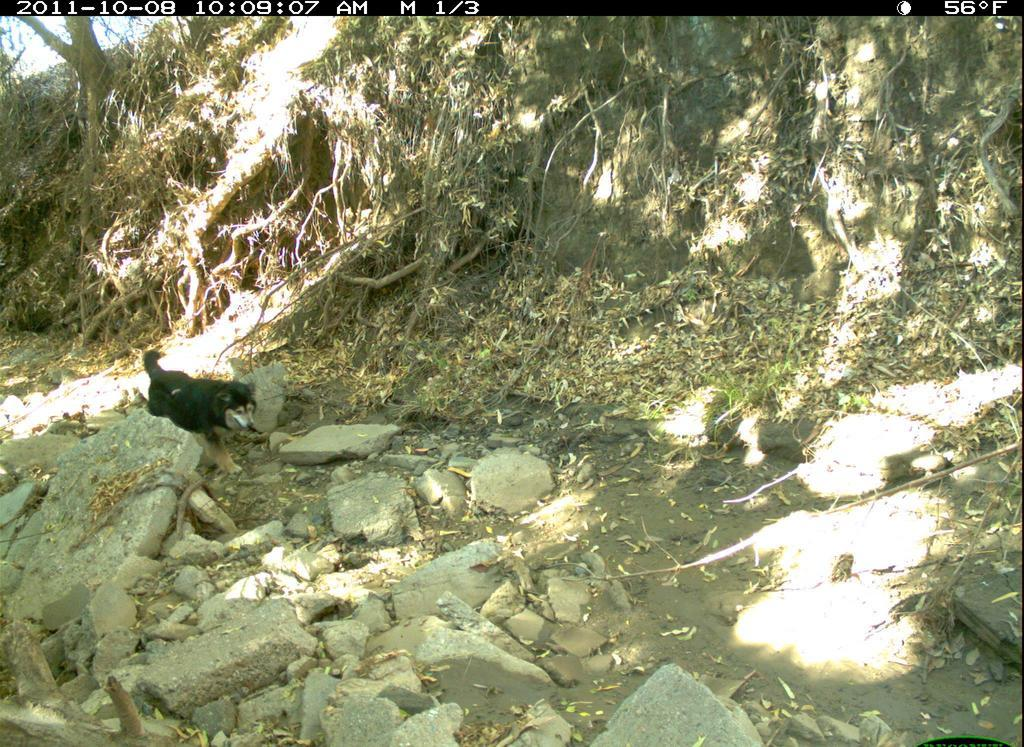dog: (122, 333, 273, 482)
